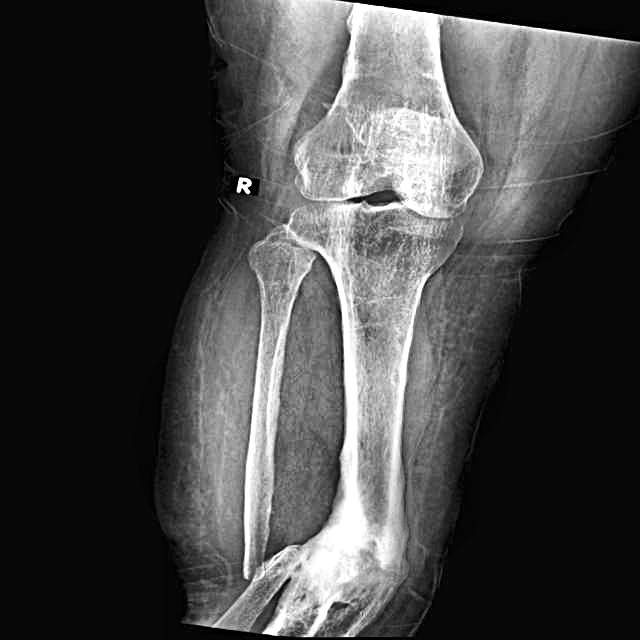Oblique: (209, 508, 319, 614)
